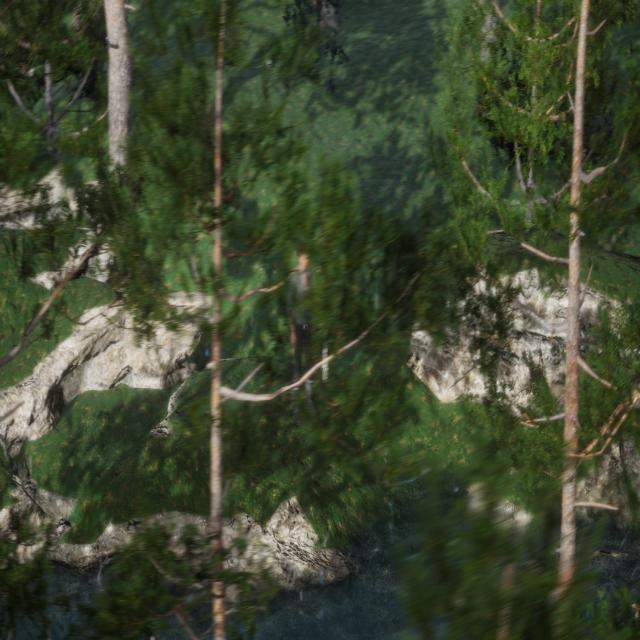Human: (283, 230, 330, 433)
